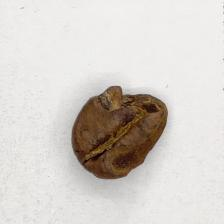NG: (97, 84, 168, 174)
